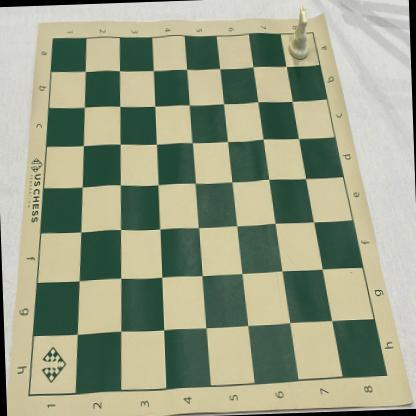knight: (286, 5, 310, 61)
